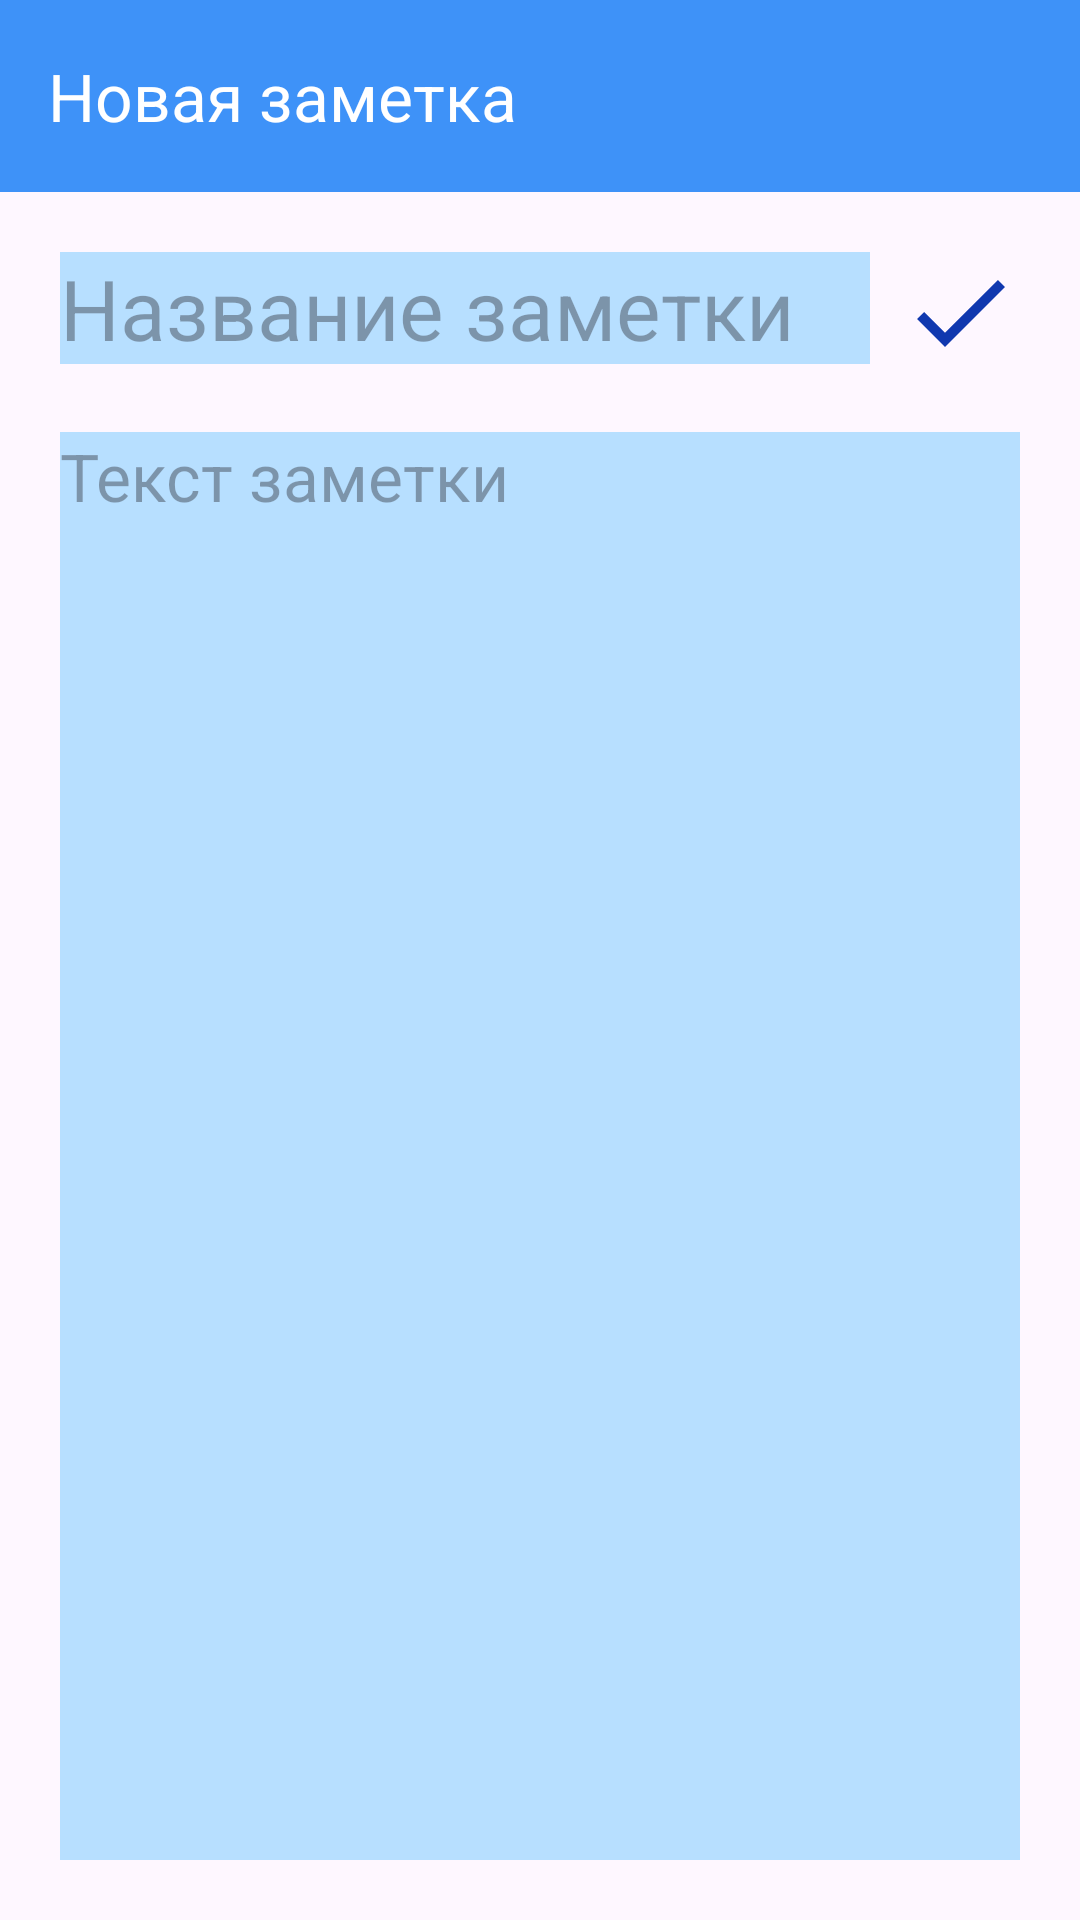

Icons on this 1080×1920 Android screen, each with the point to tap as (x,y):
check: (961,313)
